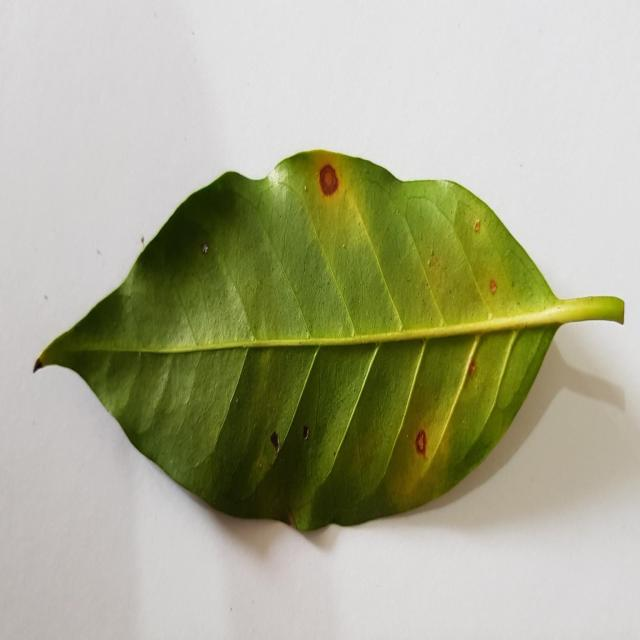Enfermedad-Mancha-de-hierro: (34, 150, 626, 532)
